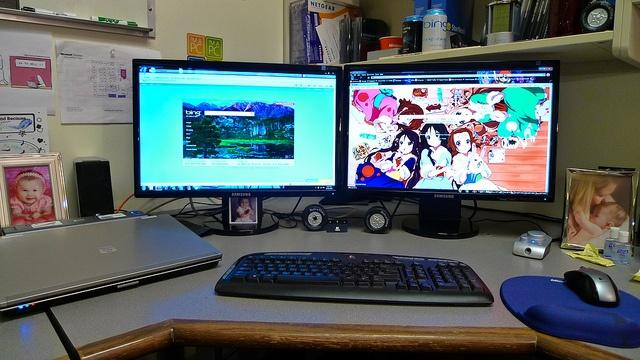AIO PC-Monitor-TV: (342, 57, 561, 204), (131, 57, 343, 200)
